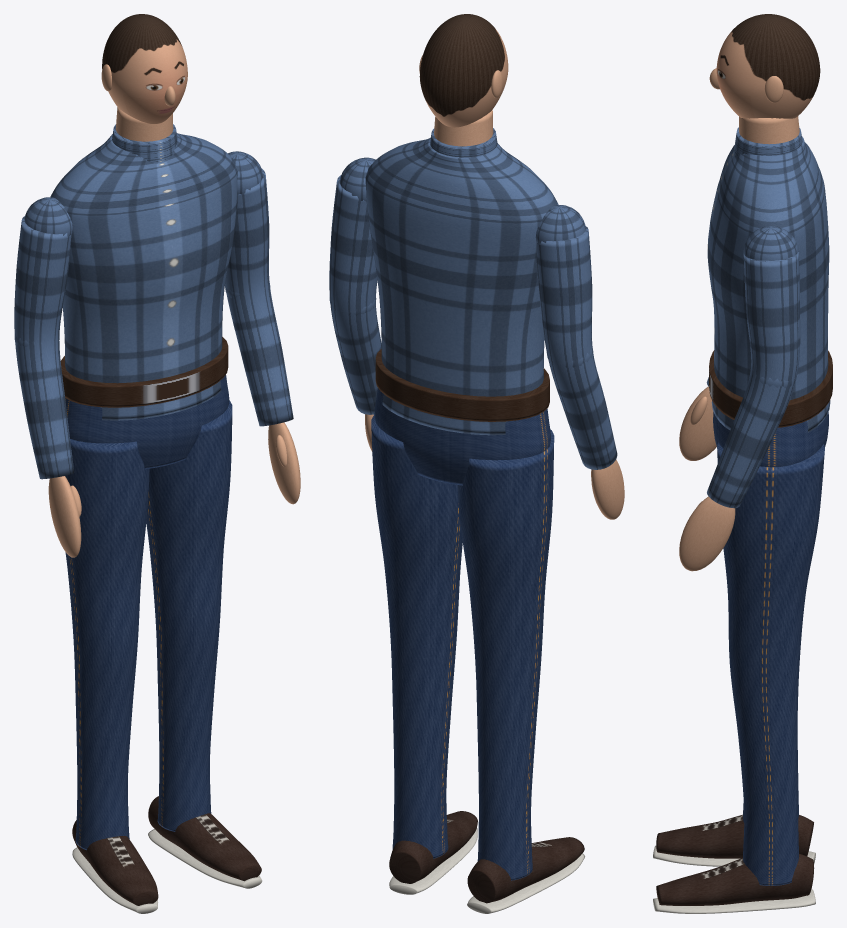
Rendered from man.obj.
The picture shows the model from 3 angles, left to right: view 1: azimuth 30°, elevation 25°; view 2: azimuth 150°, elevation 25°; view 3: azimuth 270°, elevation 25°; orthographic projection. The views are drawn at different scales.
Visible parts, largest first — view 1: shirt_torso, pants_leg_r, pants_leg_l, sleeve_r, sleeve_l, head, pants_hip, belt, shoe_l, shoe_r, hand_r, hand_l (+6 smaller); view 2: shirt_torso, pants_leg_r, pants_leg_l, sleeve_r, sleeve_l, head, pants_hip, belt, shoe_r, shoe_l, hand_r, shoulder_r (+5 smaller); view 3: pants_leg_l, shirt_torso, sleeve_l, head, shoe_l, shoe_r, hand_l, pants_hip, belt, hand_r, sole_l, shoulder_l (+4 smaller).
Part boxes in pixels (box(x1,y1,x2,y2)): shirt_torso: box(50, 133, 237, 420); pants_leg_r: box(65, 439, 149, 850); pants_leg_l: box(146, 400, 232, 831); sleeve_r: box(14, 216, 74, 479); sleeve_l: box(225, 168, 293, 426); head: box(102, 14, 187, 123); pants_hip: box(65, 375, 229, 469); belt: box(60, 337, 228, 407); shoe_l: box(148, 796, 261, 881); shoe_r: box(72, 820, 158, 905); hand_r: box(48, 476, 81, 557); hand_l: box(268, 422, 300, 504); shirt_torso: box(365, 138, 558, 435); pants_leg_r: box(457, 429, 554, 880); pants_leg_l: box(371, 414, 462, 858); sleeve_r: box(536, 226, 617, 469); sleeve_l: box(329, 175, 381, 414); head: box(419, 14, 508, 127); pants_hip: box(374, 388, 550, 485); belt: box(375, 349, 549, 421); shoe_r: box(467, 837, 584, 903); shoe_l: box(389, 811, 477, 883); hand_r: box(591, 459, 624, 519); shoulder_r: box(535, 204, 585, 244); pants_leg_l: box(717, 442, 824, 885); shirt_torso: box(707, 136, 830, 432); sleeve_l: box(707, 252, 800, 508); head: box(716, 14, 820, 118); shoe_l: box(656, 853, 814, 905); shoe_r: box(656, 814, 813, 858); hand_l: box(679, 496, 735, 571); pants_hip: box(713, 412, 828, 467); belt: box(709, 350, 832, 427); hand_r: box(679, 386, 716, 460); sole_l: box(653, 889, 815, 913); shoulder_l: box(743, 226, 798, 260).
Size of the model in its own units: 0.5659 by 1.8 by 0.34.
1 material, 1 textured.
